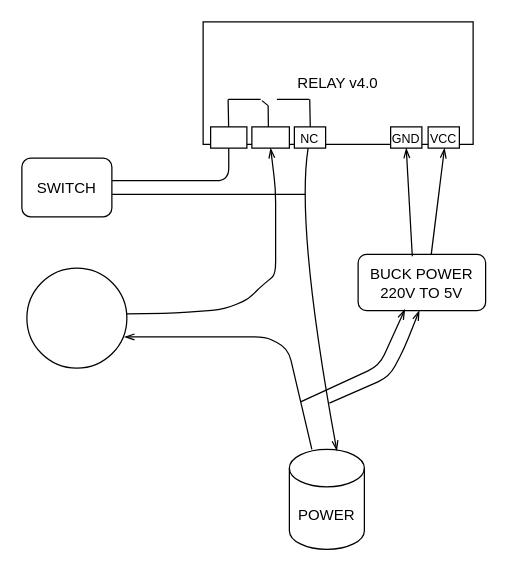
This 508x571 diagram has some shape labels left out. Each missing label, with the box of its shape:
COM: (251, 126, 289, 148)
LIGHT: (26, 267, 127, 368)
NO: (209, 126, 247, 148)
